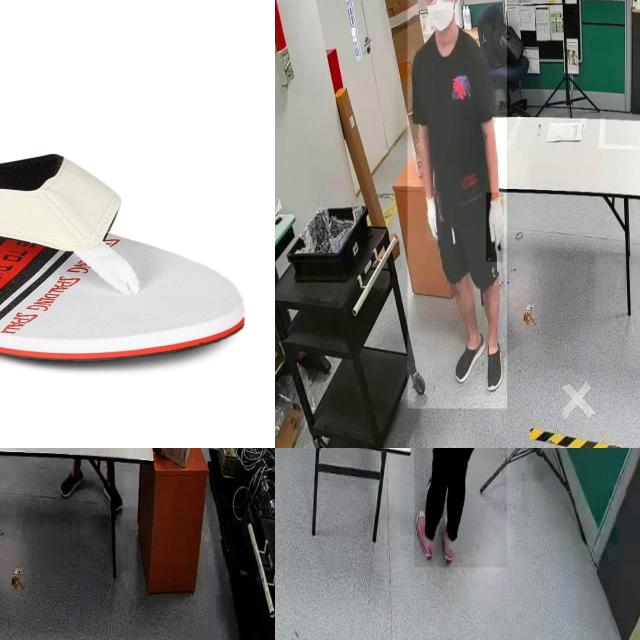Sandals: (0, 122, 247, 364)
face_mask: (425, 0, 458, 41)
glasses: (422, 0, 452, 10)
hand_glove: (486, 192, 504, 262), (426, 191, 442, 242)
person: (407, 0, 507, 409), (414, 448, 507, 568)
shoes: (454, 321, 488, 382), (412, 504, 435, 563), (482, 334, 502, 392), (438, 510, 456, 568), (100, 477, 126, 515), (60, 463, 85, 500), (471, 542, 471, 544)
